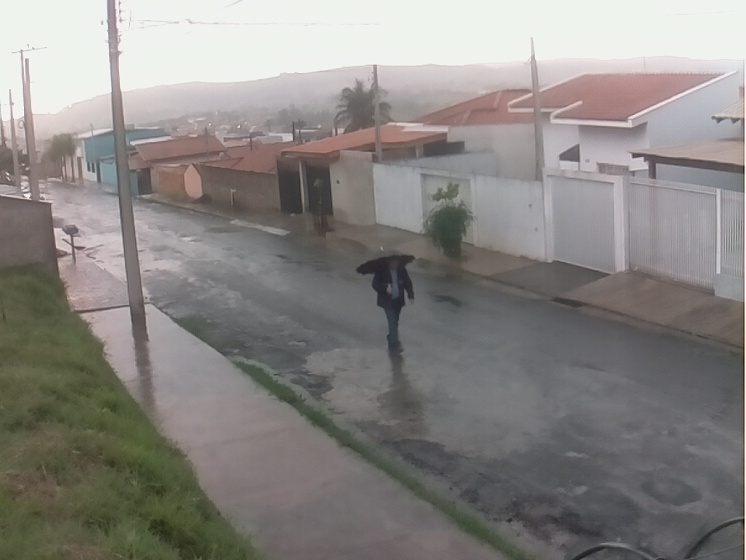person: (371, 259, 416, 351)
